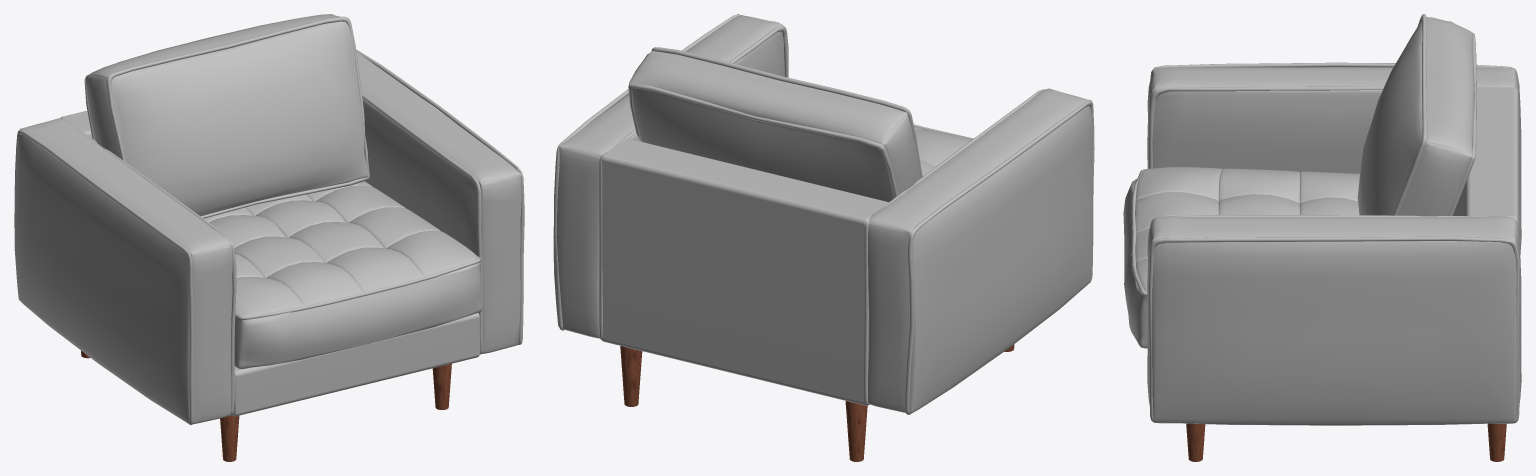
3 views of the same model, side by side, from view 1: azimuth 30°, elevation 25°; view 2: azimuth 150°, elevation 25°; view 3: azimuth 270°, elevation 25° (orthographic). The views are drawn at different scales.
Parts seen in each view (by area): view 1: RootNode; view 2: RootNode; view 3: RootNode.
Boxes of the visible parts, x1,y1,x2,y2 form: RootNode: (14, 14, 524, 461); RootNode: (553, 14, 1094, 461); RootNode: (1123, 14, 1521, 461).
Size of the model in its own units: 0.928 by 0.7734 by 0.8434.
Materials: 1 (1 with a texture image).
